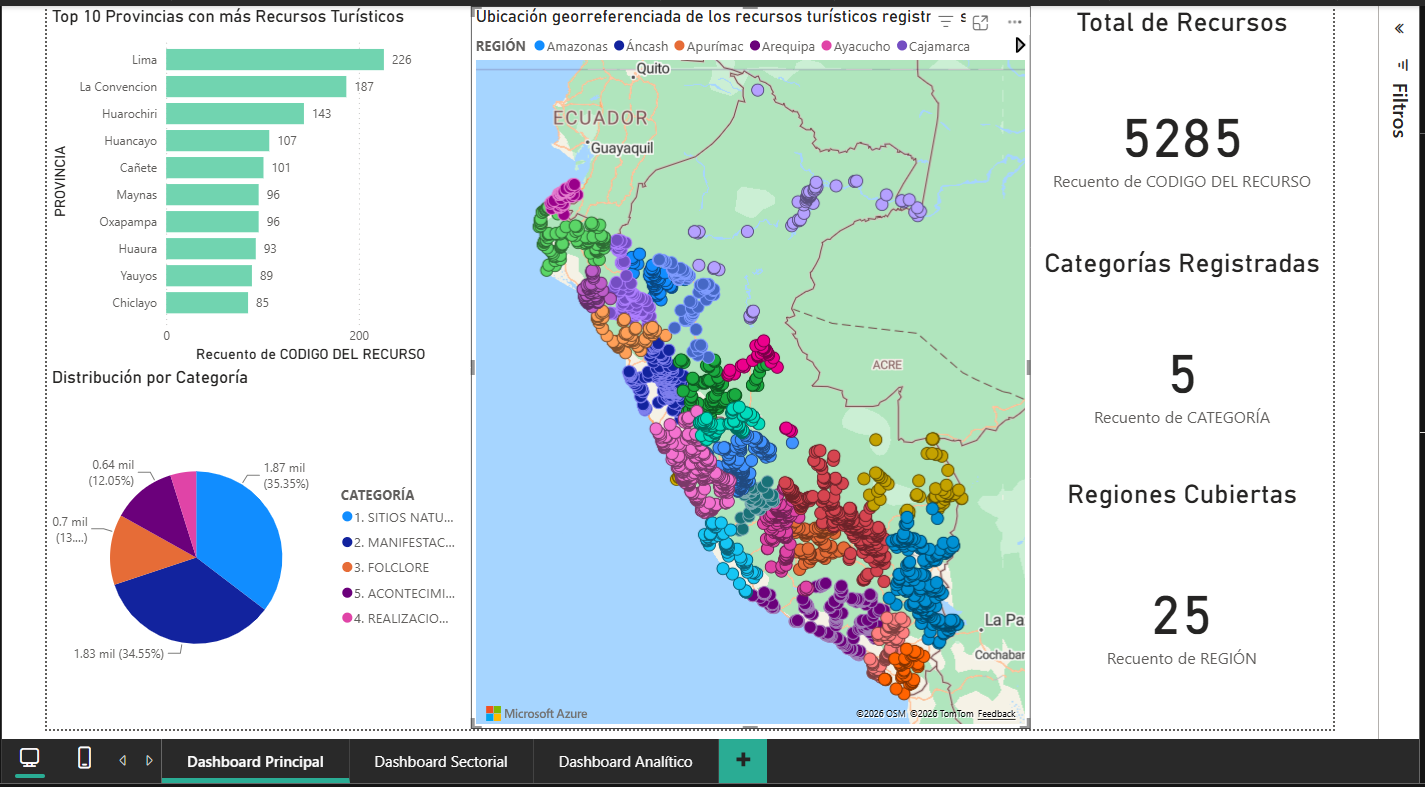

What the dashboard file says about the page in this screenshot:
{"tool":"powerbi","page":{"name":"Dashboard Principal","canvas":[1280,720],"ordinal":0},"visuals":[{"type":"actionButton","box":[0,0,100,40],"z":0},{"type":"map","title":"Ubicación georreferenciada de los recursos turísticos registrados","fields":{"Y":["Inventario_recursos_turisticos.LATITUD"],"X":["Inventario_recursos_turisticos.LONGITUD"],"Series":["Inventario_recursos_turisticos.REGIÓN"]},"box":[421.4,0,557.1,720],"z":1000},{"type":"pieChart","title":"Distribución por Categoría","fields":{"Category":["Inventario_recursos_turisticos.CATEGORÍA"],"Y":["CountNonNull(Inventario_recursos_turisticos.CODIGO DEL RECURSO)"]},"box":[0,360,421.4,360],"z":3000},{"type":"card","title":"Total de Recursos","fields":{"Values":["CountNonNull(Inventario_recursos_turisticos.CODIGO DEL RECURSO)"]},"box":[978.6,0,301.4,240],"z":4000},{"type":"card","title":"Regiones Cubiertas","fields":{"Values":["Count(Inventario_recursos_turisticos.REGIÓN)"]},"box":[978.6,470,301.4,250],"z":5000},{"type":"card","title":"Categorías Registradas","fields":{"Values":["Count(Inventario_recursos_turisticos.CATEGORÍA)"]},"box":[978.6,240,301.4,230],"z":6000},{"type":"clusteredBarChart","title":"Top 10 Provincias con más Recursos Turísticos","fields":{"Category":["Inventario_recursos_turisticos.PROVINCIA"],"Y":["CountNonNull(Inventario_recursos_turisticos.CODIGO DEL RECURSO)"]},"box":[0,0,421.4,360],"z":7001}]}

Visuals, with their boxes on the page's 1280x720 design canvas (x1, y1, x2, y2). These are canvas units, not pixel positions in the 1425x787 screenshot, which may show the page scaled, cropped or inside an application window:
actionButton: rect(0, 0, 100, 40)
"Ubicación georreferenciada de los recursos turísticos registrados" map: rect(421, 0, 978, 720)
"Distribución por Categoría" pieChart: rect(0, 360, 421, 720)
"Total de Recursos" card: rect(979, 0, 1280, 240)
"Regiones Cubiertas" card: rect(979, 470, 1280, 720)
"Categorías Registradas" card: rect(979, 240, 1280, 470)
"Top 10 Provincias con más Recursos Turísticos" clusteredBarChart: rect(0, 0, 421, 360)
